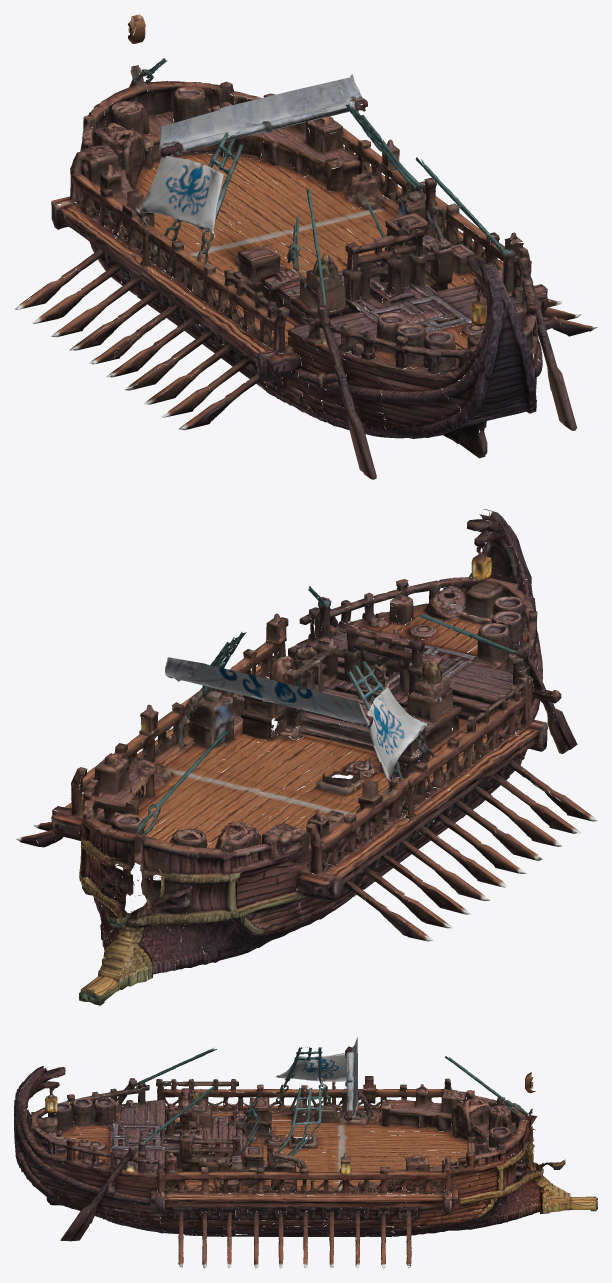
The model's file is roman-wreck.glb.
3 views of the same model, one above another, from view 1: azimuth 30°, elevation 25°; view 2: azimuth 150°, elevation 25°; view 3: azimuth 270°, elevation 25° (orthographic). The views are drawn at different scales.
Parts seen in each view (by area): view 1: tripo_node_02b50d2a-160b-4bb5-9f90-fc61354bcf5a; view 2: tripo_node_02b50d2a-160b-4bb5-9f90-fc61354bcf5a; view 3: tripo_node_02b50d2a-160b-4bb5-9f90-fc61354bcf5a.
Boxes of the visible parts, <box> form: tripo_node_02b50d2a-160b-4bb5-9f90-fc61354bcf5a: <box>14,14,597,479</box>; tripo_node_02b50d2a-160b-4bb5-9f90-fc61354bcf5a: <box>16,509,597,1005</box>; tripo_node_02b50d2a-160b-4bb5-9f90-fc61354bcf5a: <box>14,1037,597,1268</box>.
Bounding box in the file's own units: 0.567 × 0.263 × 0.9781.
Materials: 1 (1 with a texture image).
